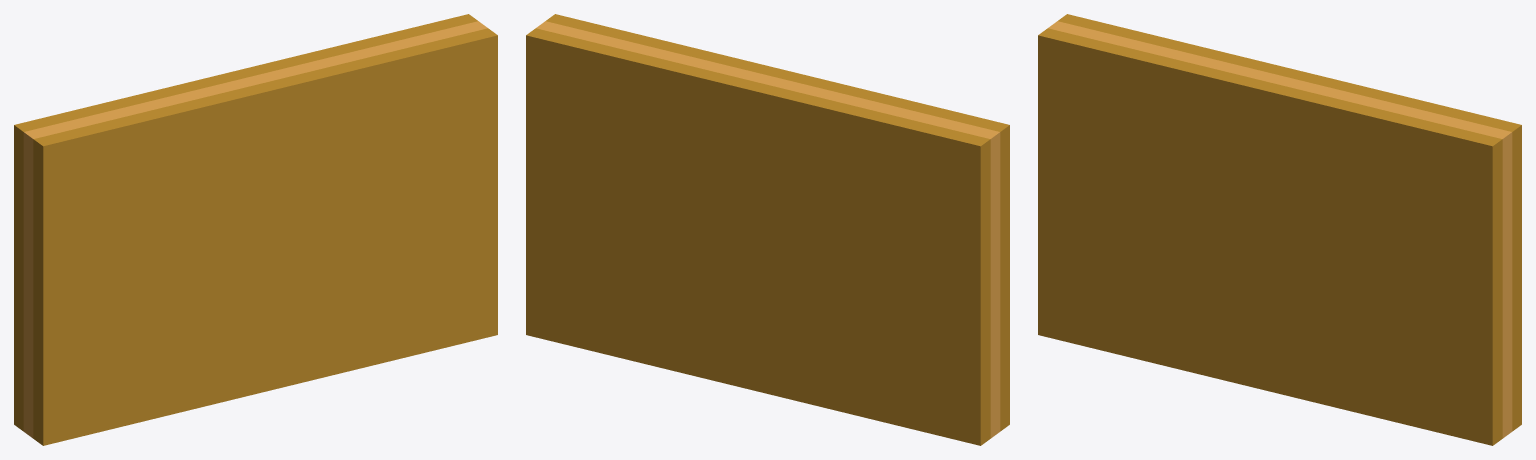
The model's file is hat walls.gltf.
3 views of the same model, side by side, from view 1: azimuth 30°, elevation 25°; view 2: azimuth 150°, elevation 25°; view 3: azimuth 330°, elevation 25° (orthographic).
Visible parts, largest first — view 1: Layer.1; view 2: Layer.1; view 3: Layer.1.
Part boxes in pixels (x1,y1,x2,y2): Layer.1: [14, 14, 497, 445]; Layer.1: [526, 14, 1009, 445]; Layer.1: [1038, 14, 1521, 445].
Size of the model in its own units: 27 by 17 by 3.
Materials: 1 (1 with a texture image).
